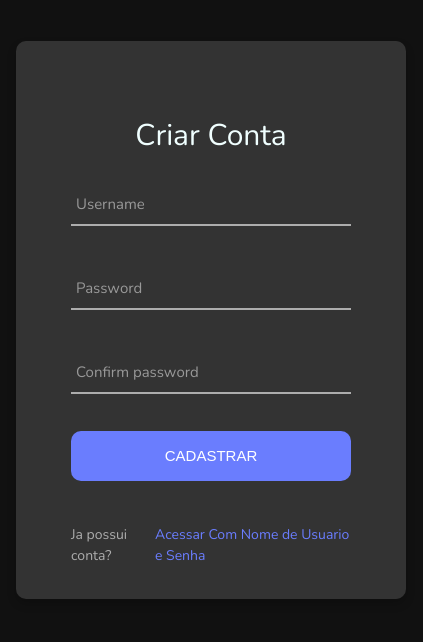
Test case: Componente Register › Simulacão de tentar criar conta ja existente por meio de fetch simulado › Enviar dados de usuário já cadastrado retorna codigo diferente de 201 e imprime mensagem de alerta
Step 1. Type "victor" into the field with test id "usernameInput" → (211, 202), box top-left (71, 179), bottom-right (351, 224)
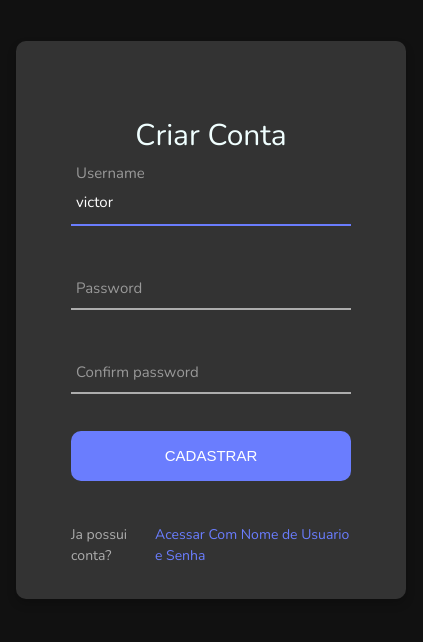
Step 2. Type "12345" into the password field with test id "passwordInput" → (211, 286), box top-left (71, 263), bottom-right (351, 308)
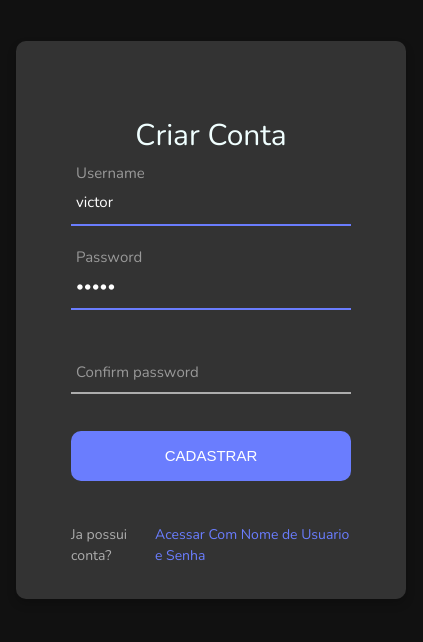
Step 3. Type "12345" into the password field with test id "confirmpasswordInput" → (211, 370), box top-left (71, 347), bottom-right (351, 392)
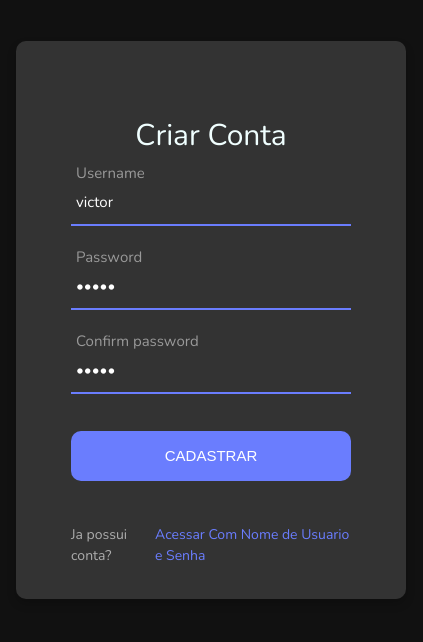
Step 4. Click the button → (211, 456), box top-left (71, 431), bottom-right (351, 481)
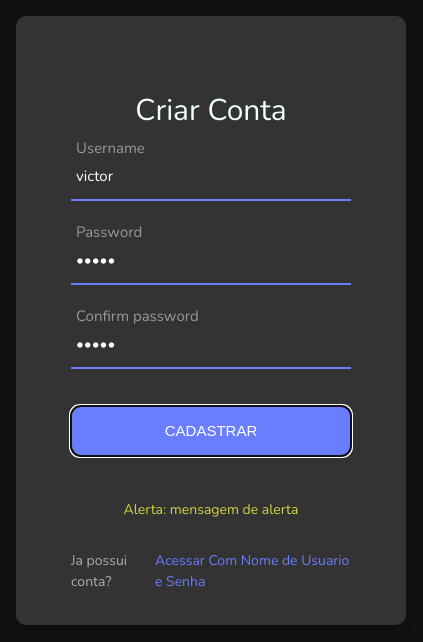
Now the text "Alerta: mensagem de alerta" is shown, box top-left (124, 498), bottom-right (298, 520)
